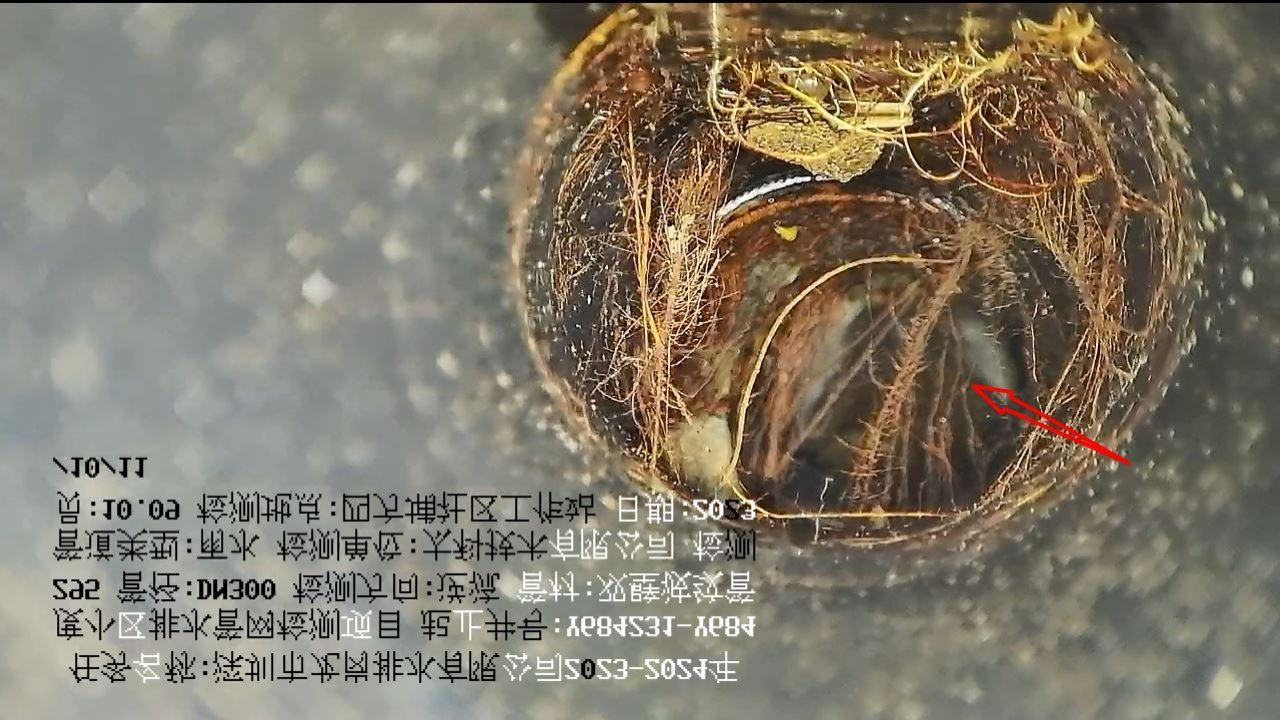SG: (517, 7, 1201, 549)
